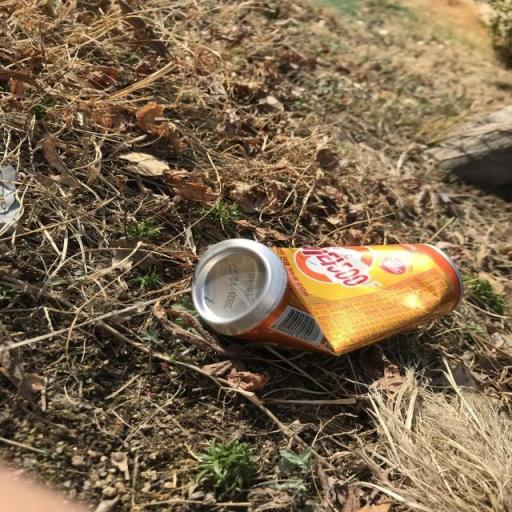metal: (171, 222, 485, 378)
